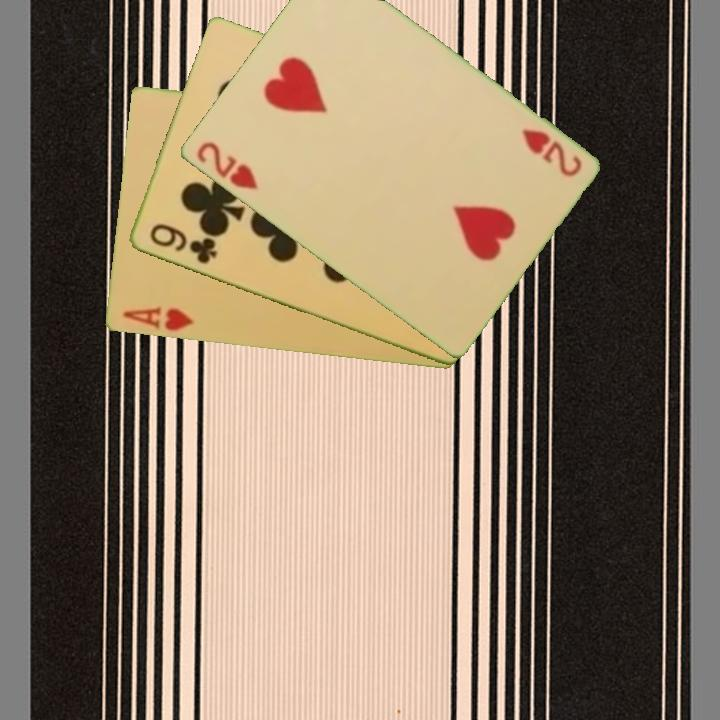2h: (192, 138, 261, 193), (517, 125, 585, 180)
9c: (145, 220, 220, 268)
Ah: (119, 303, 196, 334)
